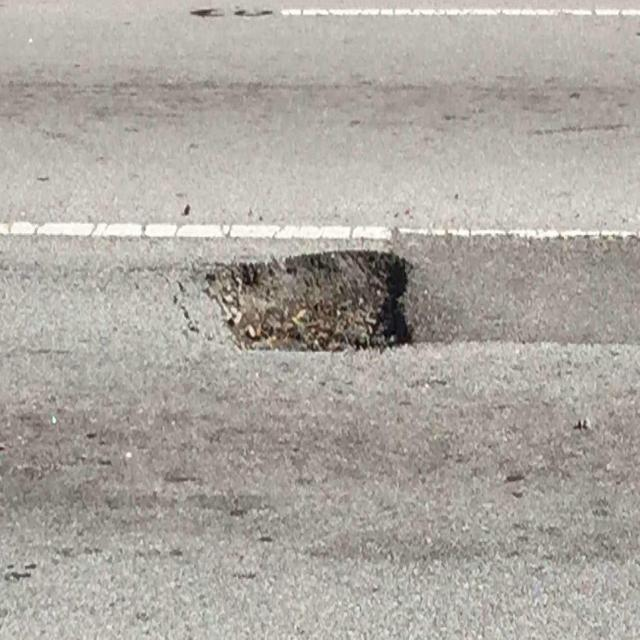Pothole: (211, 245, 417, 354)
